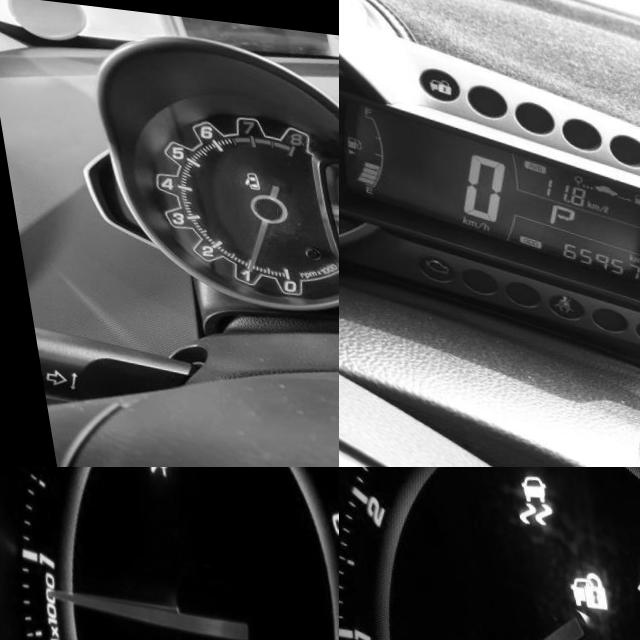Doors: (236, 165, 255, 184)
